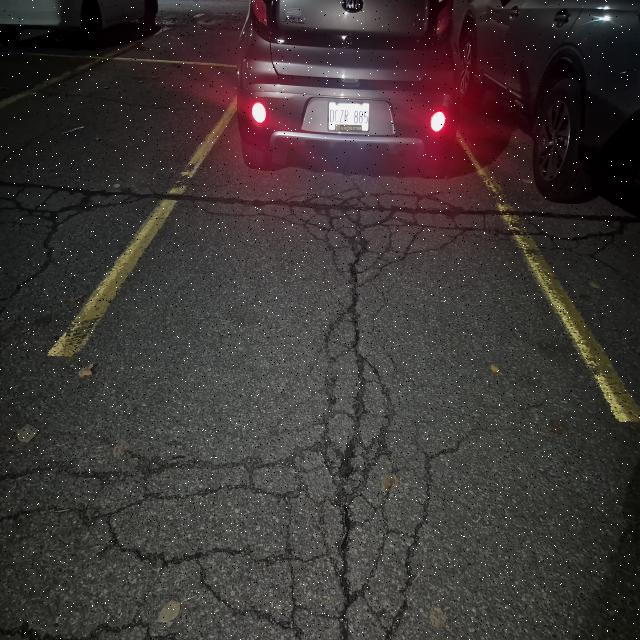plaque: (329, 102, 369, 132)
